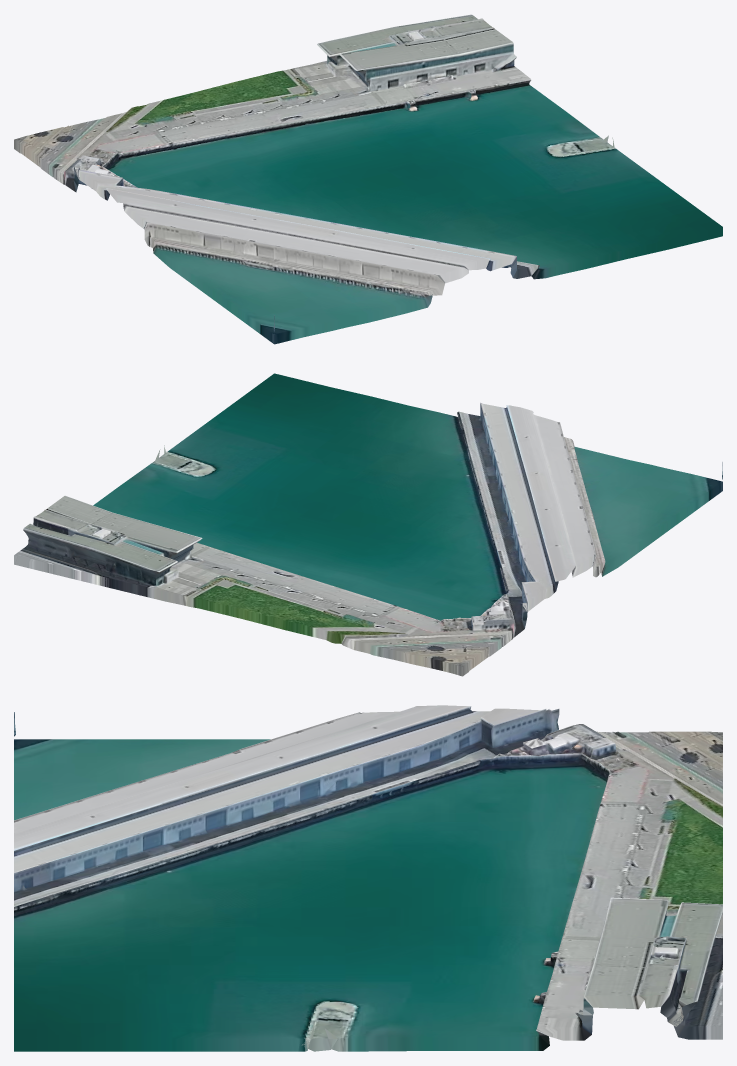
File: z17-20971-50648-h0-yup-uvflip-v3-world.glb
3 renders of one model, top to bottom at view 1: azimuth 30°, elevation 25°; view 2: azimuth 150°, elevation 25°; view 3: azimuth 270°, elevation 25°, orthographic. The views are drawn at different scales.
Size of the model in its own units: 241 by 21.44 by 243.
1 material, 1 textured.
